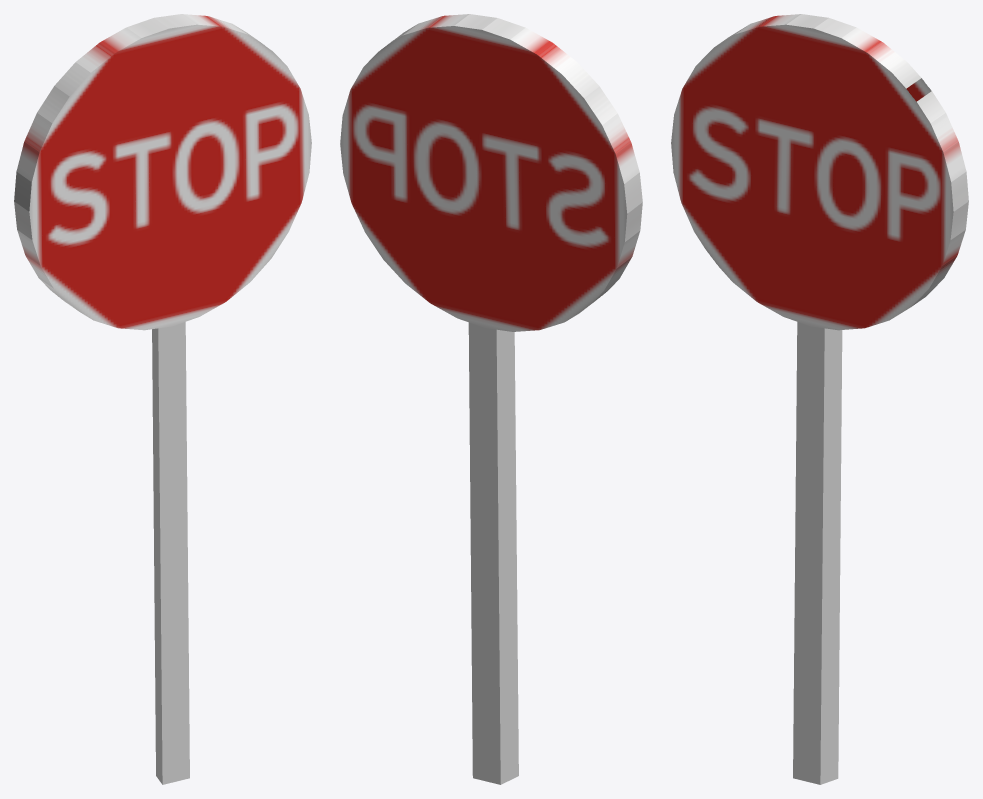
File: stop.dae
3 views of the same model, side by side, from view 1: azimuth 30°, elevation 25°; view 2: azimuth 150°, elevation 25°; view 3: azimuth 330°, elevation 25° (orthographic).
Parts seen in each view (by area): view 1: Cycle, Xui; view 2: Cycle, Xui; view 3: Cycle, Xui.
Part boxes in pixels (x1,y1,x2,y2): Cycle: (14,14,311,330); Xui: (152,322,189,784); Cycle: (340,14,642,331); Xui: (468,322,518,784); Cycle: (671,14,968,330); Xui: (793,322,842,784).
Bounding box in the file's own units: 0.2554 × 0.0352 × 0.6471.
1 material, 1 textured.
